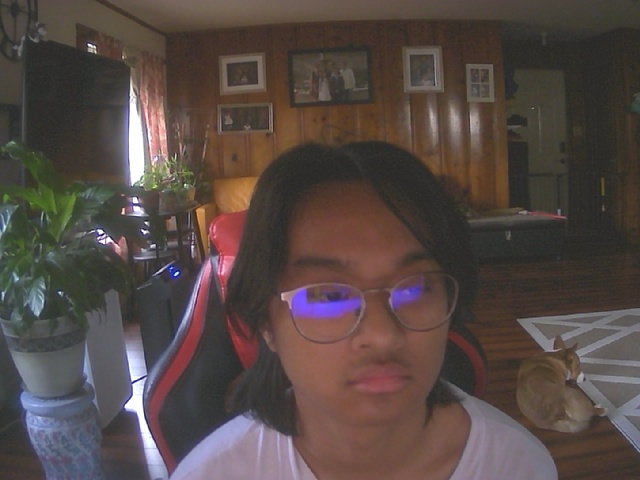neutral: (253, 141, 468, 429)
